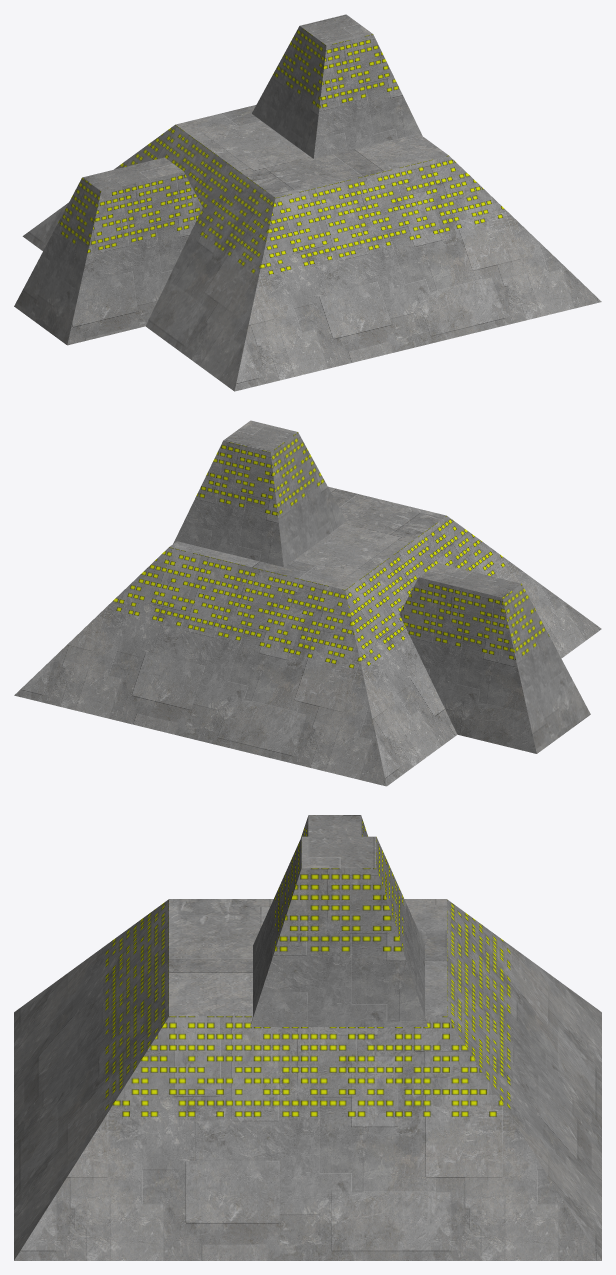
Rendered from SM_Building_04.fbx.
The picture shows the model from 3 angles, top to bottom: view 1: azimuth 30°, elevation 25°; view 2: azimuth 150°, elevation 25°; view 3: azimuth 270°, elevation 25°; orthographic projection. The views are drawn at different scales.
Parts seen in each view (by area): view 1: SM_Building_04; view 2: SM_Building_04; view 3: SM_Building_04.
Boxes of the visible parts, x1,y1,x2,y2 form: SM_Building_04: (14,14,601,391); SM_Building_04: (14,420,601,786); SM_Building_04: (14,815,601,1260).
Size of the model in its own units: 4.83 by 2.3 by 3.98.
